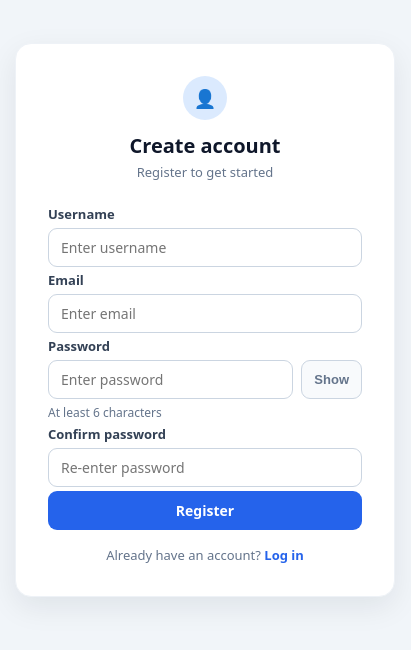
Scenario: Register page › blocks submission when passwords do not match
The image size is (411, 650).
In the field labelled "Username": (205, 248) [48, 228, 362, 267], type "New User"
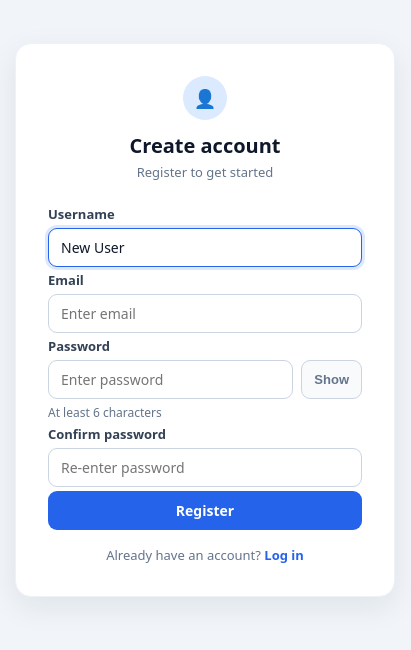
In the field labelled "Email": (205, 314) [48, 294, 362, 333], type "new@example.com"
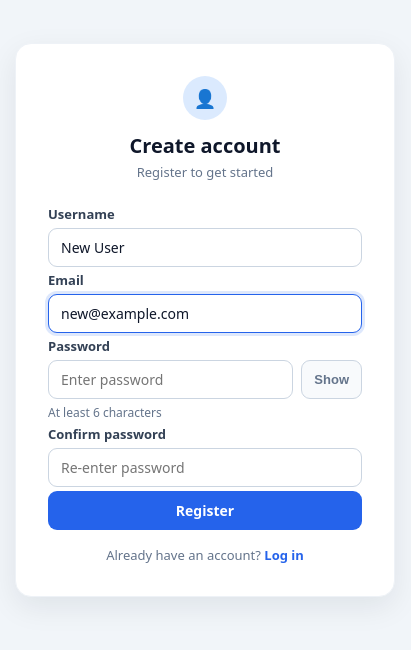
In the password field labelled "Password": (171, 380) [48, 360, 293, 399], type "password123"
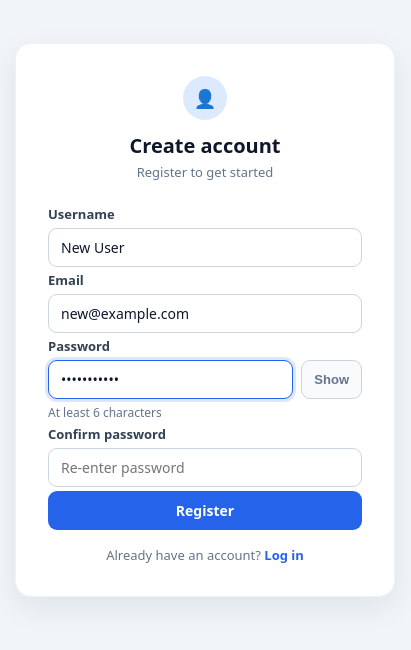
In the password field labelled "Confirm password": (205, 468) [48, 448, 362, 487], type "different"
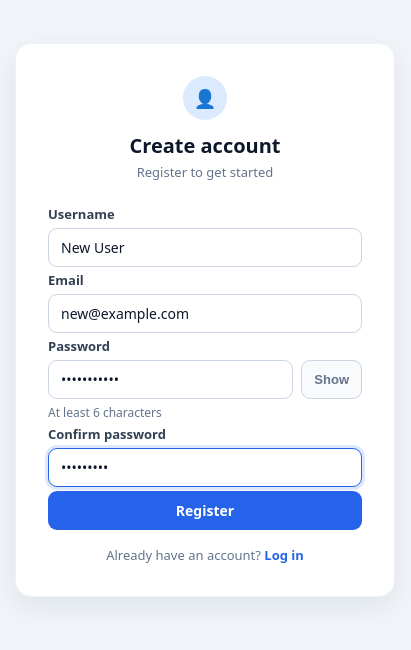
Click the button "Register": (205, 510) [48, 491, 362, 530]
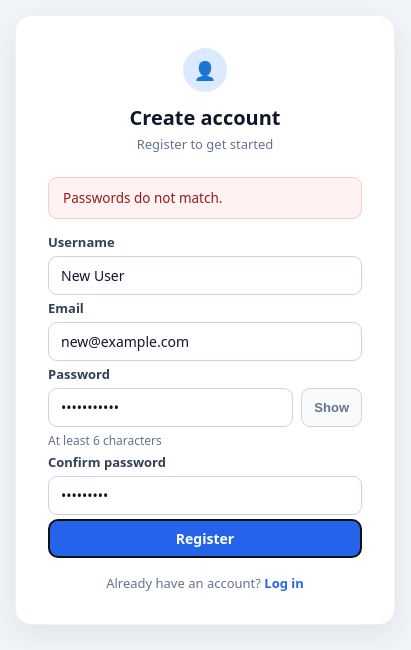
expect the text "Passwords do not match." is shown: met, box [48, 177, 362, 219]
